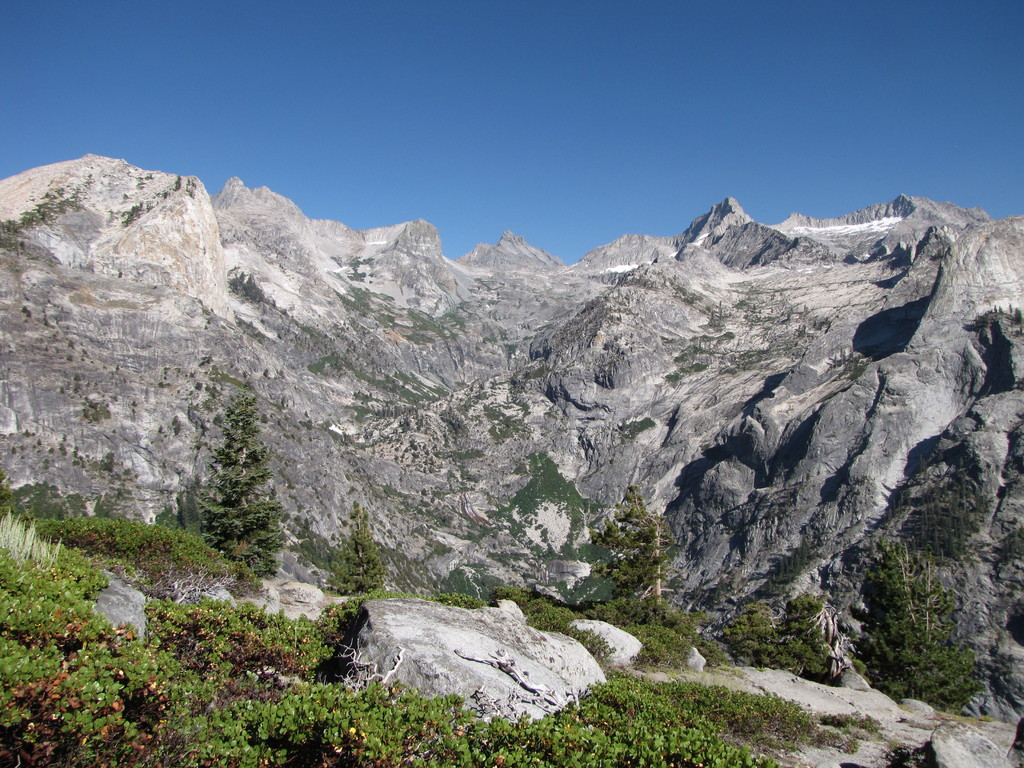Tree: (847, 535, 986, 712), (195, 384, 282, 581), (708, 596, 847, 683), (588, 483, 682, 604), (325, 500, 384, 593)
